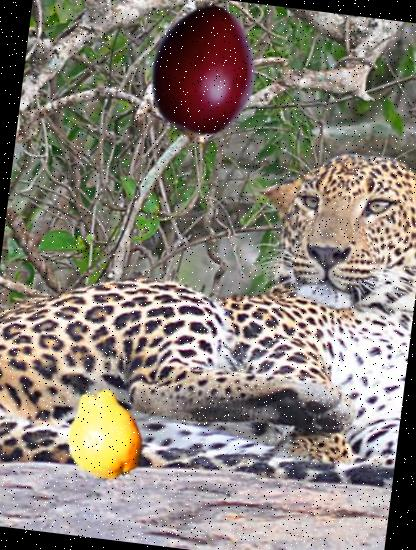Quince: (51, 385, 155, 489)
Tamarillo: (124, 0, 280, 153)
